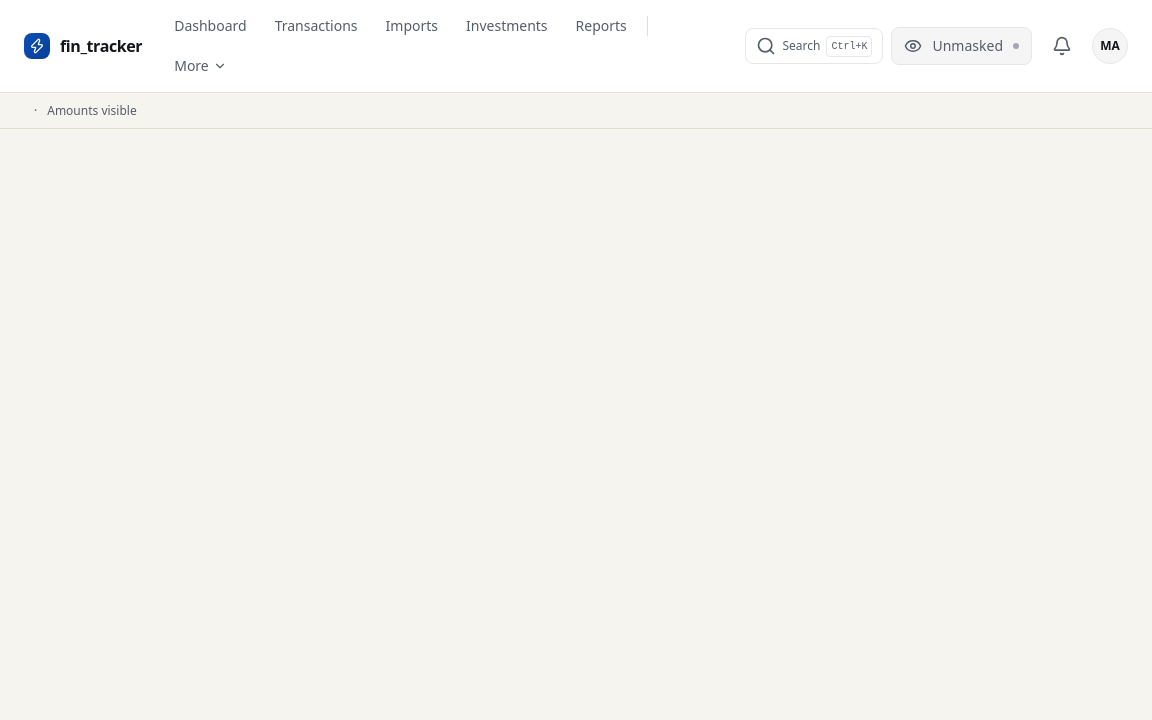
Test: M140 — one chip flip re-masks the routed tree in place › /accounts: the list balances flip instantly — page AND More panel
This screenshot has width=1152, height=720.
Later steps or results of the test are not shown.
Click the button with test id "more-toggle". click: (200, 66)
box: [162,48,239,84]
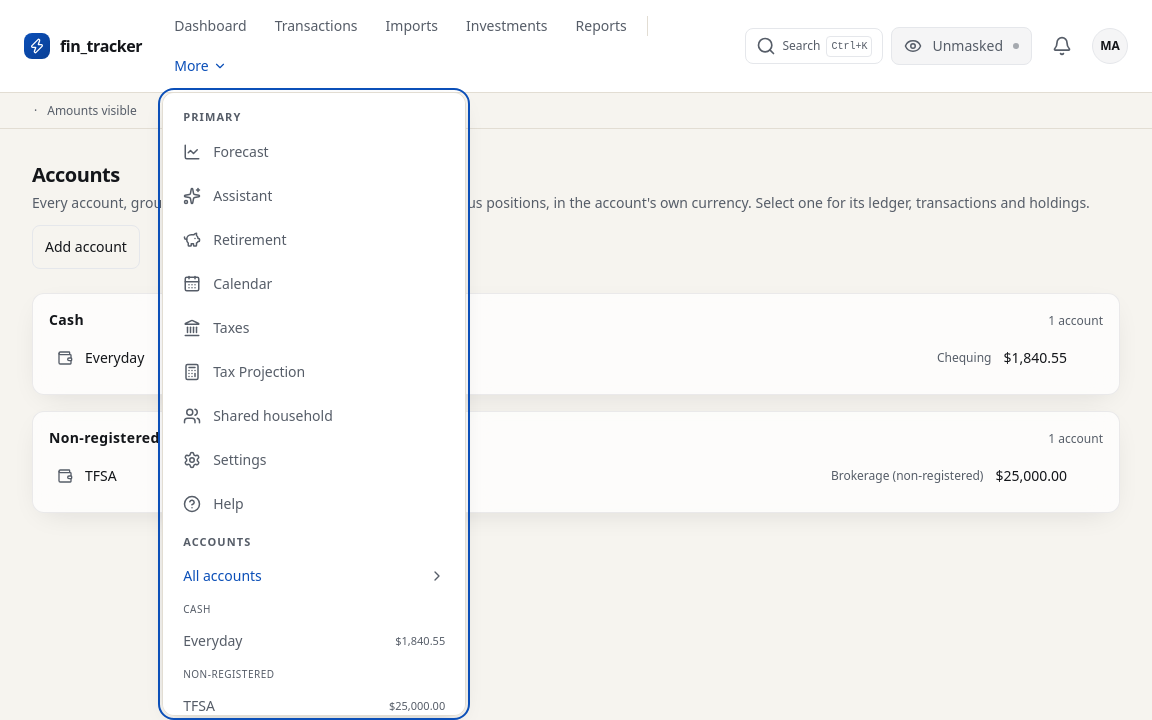
Now the element with test id "more-panel" is shown, box [162,92,466,716]
